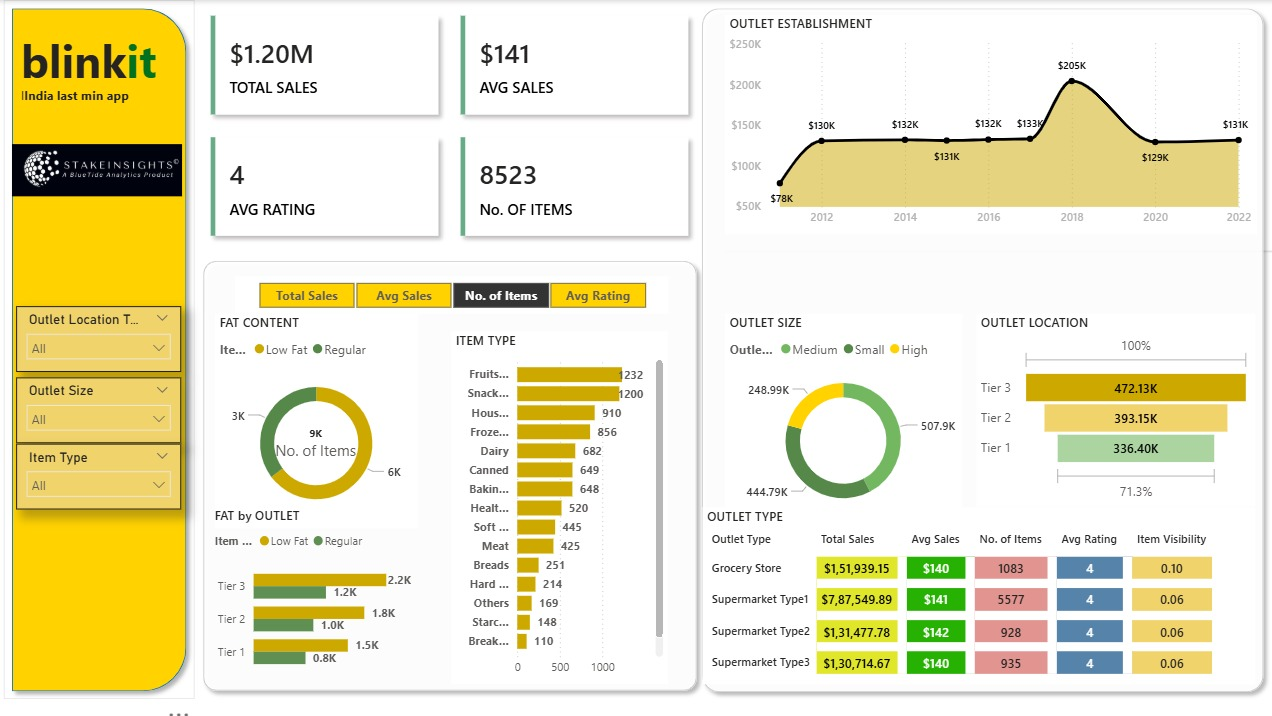

The dashboard page shown, as its layout file describes it:
{"tool":"powerbi","page":{"name":"Page 1","canvas":[1400,800],"ordinal":0},"visuals":[{"type":"shape","box":[10,0,205,750],"z":0},{"type":"textbox","box":[23,26.9,176.6,74.9],"z":1000},{"type":"textbox","box":[23,88.3,176.6,42.2],"z":2000},{"type":"cardVisual","fields":{"Data":["BlinkIT Grocery Data.Total Sales","BlinkIT Grocery Data.Avg Sales","BlinkIT Grocery Data.Avg Rating","BlinkIT Grocery Data.No. of Items"]},"box":[215,0,547.2,270.7],"z":3000},{"type":"shape","box":[215,271,547,479],"z":4000},{"type":"donutChart","title":"FAT CONTENT","fields":{"Y":["BlinkIT Grocery Data.No. of Items"],"Category":["BlinkIT Grocery Data.Item Fat Content"]},"box":[236.1,336.4,217.5,230.5],"z":5000},{"type":"slicer","fields":{"Values":["Metrics.Metrics"]},"box":[257.3,295.7,464.6,40.3],"z":6000},{"type":"cardVisual","fields":{"Data":["BlinkIT Grocery Data.No. of Items"]},"box":[265,426.2,157.4,97.9],"z":7000},{"type":"clusteredBarChart","title":"FAT by OUTLET","fields":{"Y":["BlinkIT Grocery Data.No. of Items"],"Category":["BlinkIT Grocery Data.Outlet Location Type"],"Series":["BlinkIT Grocery Data.Item Fat Content"]},"box":[230.4,543.4,220.8,190.1],"z":8000},{"type":"shape","box":[782.5,237.9,587.4,65.1],"z":9000},{"type":"barChart","title":"ITEM TYPE","fields":{"Y":["BlinkIT Grocery Data.No. of Items"],"Category":["BlinkIT Grocery Data.Item Type"]},"box":[489.6,355.2,232.3,378.2],"z":10000},{"type":"shape","box":[750,0,620,751.2],"z":11000},{"type":"lineChart","title":"OUTLET ESTABLISHMENT","fields":{"Category":["BlinkIT Grocery Data.Outlet Establishment Year"],"Y":["BlinkIT Grocery Data.Total Sales"]},"box":[782.5,16.7,570,235],"z":12000},{"type":"donutChart","title":"OUTLET SIZE","fields":{"Y":["Sum(BlinkIT Grocery Data.Sales)"],"Category":["BlinkIT Grocery Data.Outlet Size"]},"box":[782.5,336.4,254,225],"z":13000},{"type":"funnel","title":"OUTLET LOCATION","fields":{"Y":["Sum(BlinkIT Grocery Data.Sales)"],"Category":["BlinkIT Grocery Data.Outlet Location Type"]},"box":[1052.1,336.4,299.3,206.3],"z":14000},{"type":"pivotTable","title":"OUTLET TYPE","fields":{"Rows":["BlinkIT Grocery Data.Outlet Type"],"Values":["BlinkIT Grocery Data.Total Sales","BlinkIT Grocery Data.Avg Sales","BlinkIT Grocery Data.No. of Items","BlinkIT Grocery Data.Avg Rating","Avg(BlinkIT Grocery Data.Item Visibility)"]},"box":[758.4,544.6,592.9,189.6],"z":15000},{"type":"slicer","fields":{"Values":["BlinkIT Grocery Data.Outlet Location Type"]},"box":[22.3,329,176.6,70.6],"z":16000},{"type":"slicer","fields":{"Values":["BlinkIT Grocery Data.Outlet Size"]},"box":[22.3,405.2,176.6,70.6],"z":17000},{"type":"slicer","fields":{"Values":["BlinkIT Grocery Data.Item Type"]},"box":[22.3,475.8,176.6,70.6],"z":18000},{"type":"image","box":[13.8,27.5,192.5,308.8],"z":19000}]}

Visuals, with their boxes in screenshot pixels (x1, y1, x2, y2), scaled from the page's 1400x800 canvas onto the 1272x716 screenshot:
shape: (9, 0, 195, 671)
textbox: (21, 24, 181, 91)
textbox: (21, 79, 181, 117)
cardVisual - BlinkIT Grocery Data.Total Sales x BlinkIT Grocery Data.Avg Sales: (195, 0, 693, 242)
shape: (195, 243, 692, 671)
"FAT CONTENT" donutChart: (215, 301, 412, 507)
slicer - Metrics.Metrics: (234, 265, 656, 301)
cardVisual - BlinkIT Grocery Data.No. of Items: (241, 381, 384, 469)
"FAT by OUTLET" clusteredBarChart: (209, 486, 410, 656)
shape: (711, 213, 1245, 271)
"ITEM TYPE" barChart: (445, 318, 656, 656)
shape: (681, 0, 1245, 672)
"OUTLET ESTABLISHMENT" lineChart: (711, 15, 1229, 225)
"OUTLET SIZE" donutChart: (711, 301, 942, 502)
"OUTLET LOCATION" funnel: (956, 301, 1228, 486)
"OUTLET TYPE" pivotTable: (689, 487, 1228, 657)
slicer - BlinkIT Grocery Data.Outlet Location Type: (20, 294, 181, 358)
slicer - BlinkIT Grocery Data.Outlet Size: (20, 363, 181, 426)
slicer - BlinkIT Grocery Data.Item Type: (20, 426, 181, 489)
image: (13, 25, 187, 301)
